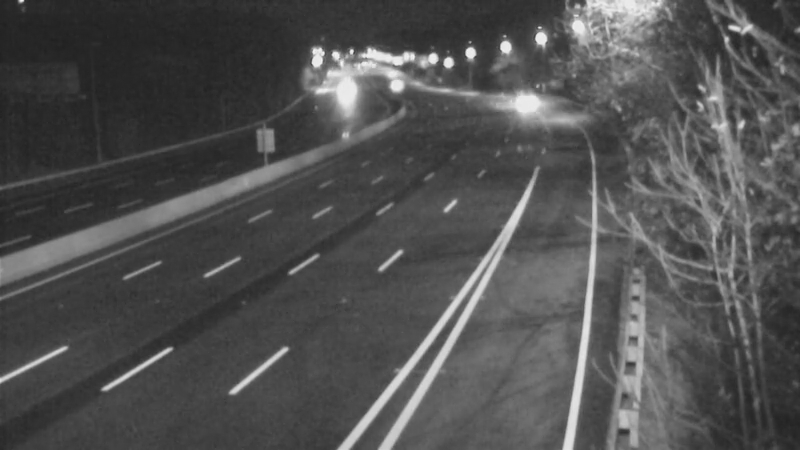vehicle: (367, 61, 417, 111), (495, 76, 545, 126), (319, 70, 369, 120)
